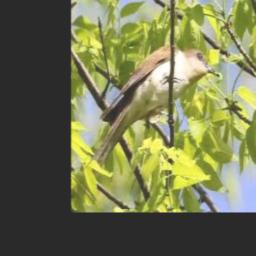Cuckoo: (88, 46, 220, 181)
